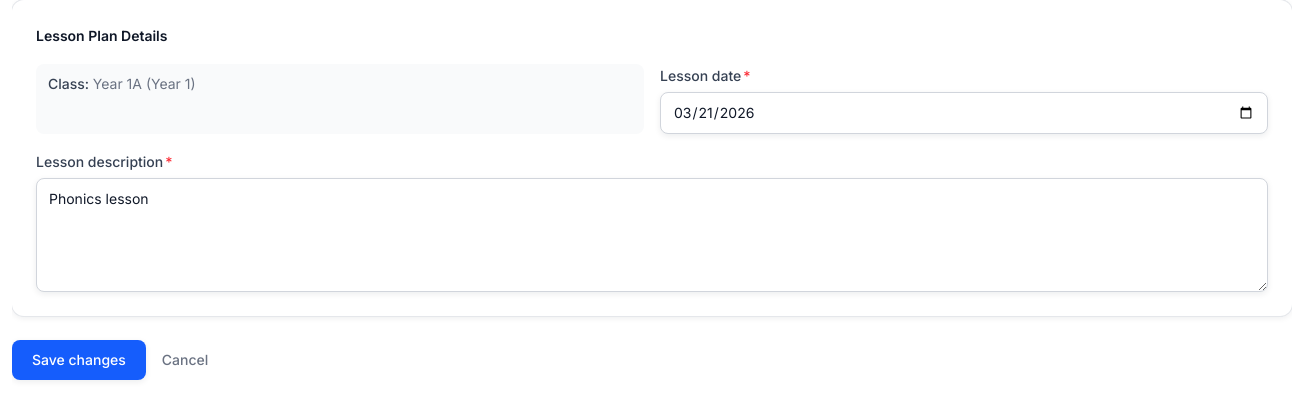
Test case: LessonPlanForm › shows the error the action returns
Step 1. Click the button "Save changes" → (79, 360), box left=12, top=340, right=146, bottom=380
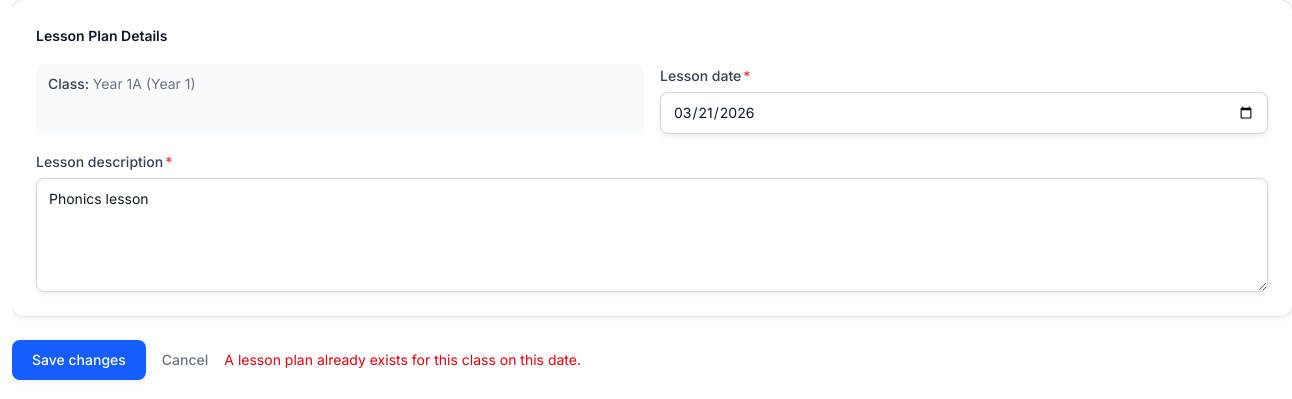
Check: the message reads "A lesson plan already exists for this class on this date.", box left=224, top=351, right=581, bottom=368
